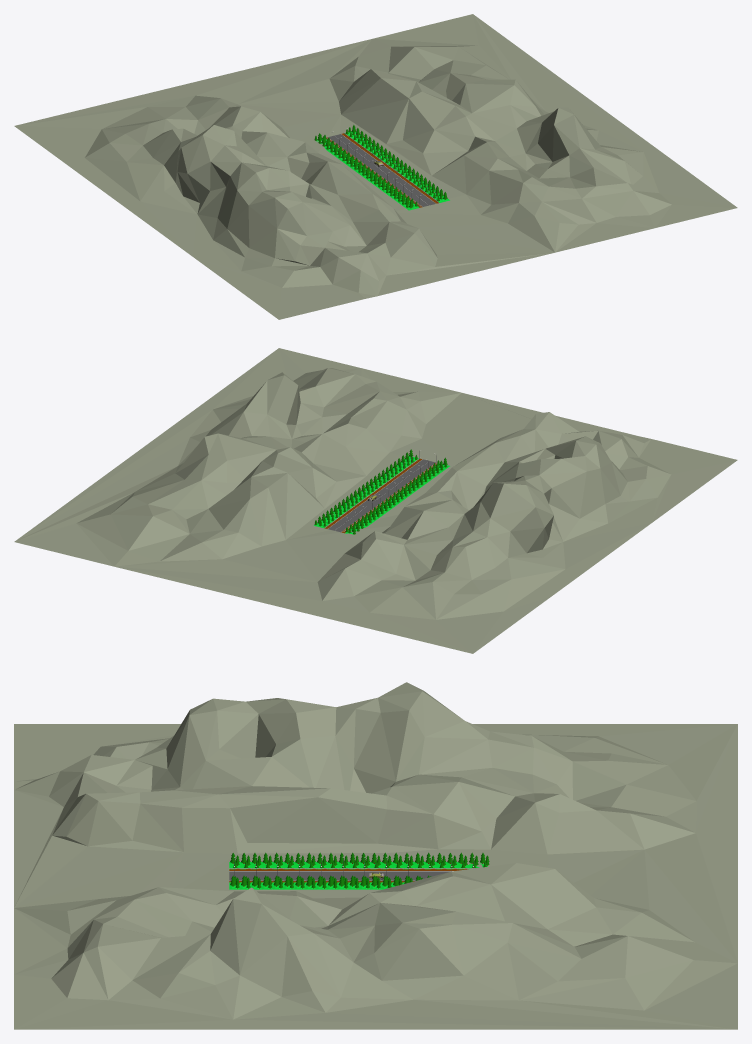
File: Car1good.fbx
3 renders of one model, top to bottom at view 1: azimuth 30°, elevation 25°; view 2: azimuth 150°, elevation 25°; view 3: azimuth 270°, elevation 25°, orthographic. The views are drawn at different scales.
Visible parts, largest first — view 1: Plane; view 2: Plane; view 3: Plane, Plane.003, Plane.002, Plane.005, Plane.004, Plane.037, Plane.001, Plane.006, Plane.007.
Part boxes in pixels (bbox=[...]): Plane: bbox=[14, 14, 737, 319]; Plane: bbox=[14, 348, 737, 653]; Plane: bbox=[14, 682, 737, 1029]; Plane.003: bbox=[294, 852, 316, 889]; Plane.002: bbox=[272, 852, 294, 889]; Plane.005: bbox=[338, 852, 359, 889]; Plane.004: bbox=[316, 852, 337, 889]; Plane.037: bbox=[229, 853, 250, 889]; Plane.001: bbox=[251, 852, 272, 889]; Plane.006: bbox=[359, 853, 381, 889]; Plane.007: bbox=[381, 852, 402, 889].
Bounding box in the file's own units: 20000 × 2725 × 20000.
